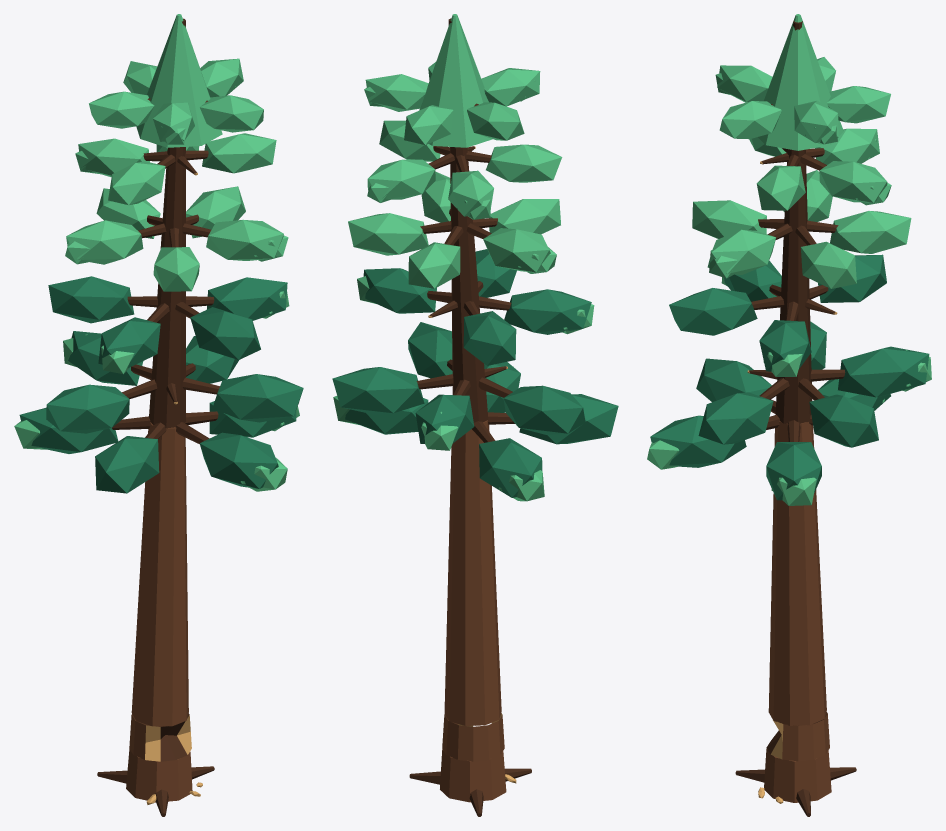
File: harvest_tree_damaged_b.glb
3 renders of one model, left to right at view 1: azimuth 30°, elevation 25°; view 2: azimuth 150°, elevation 25°; view 3: azimuth 270°, elevation 25°, orthographic.
Parts seen in each view (by area): view 1: Trunk_Above_Notch.001, Trunk_Upper.002, Leader_Needles.002, Needles_2_5.002, Needles_2_3.002, Needles_3_2.002, Needles_1_5.002, Needles_1_4.002, Needles_3_4.002, Needles_4_4.002, Needles_3_5.002, Trunk_Base.001 (+20 smaller); view 2: Trunk_Above_Notch.001, Leader_Needles.002, Trunk_Upper.002, Needles_2_1.002, Needles_2_3.002, Needles_3_3.002, Needles_4_5.002, Trunk_Base.001, Needles_1_3.002, Needles_3_5.002, Needles_5_2.002, Needles_3_2.002 (+20 smaller); view 3: Trunk_Above_Notch.001, Leader_Needles.002, Trunk_Upper.002, Needles_2_2.002, Needles_3_4.002, Needles_2_5.002, Needles_2_1.002, Needles_4_1.002, Trunk_Base.001, Needles_1_5.002, Needles_5_5.002, Needles_1_1.002 (+20 smaller).
Part boxes in pixels (x1=…): Trunk_Above_Notch.001: x1=131, y1=422, x2=188, y2=726; Trunk_Upper.002: x1=149, y1=18, x2=185, y2=428; Leader_Needles.002: x1=136, y1=14, x2=222, y2=147; Needles_2_5.002: x1=212, y1=374, x2=303, y2=422; Needles_2_3.002: x1=46, y1=384, x2=129, y2=433; Needles_3_2.002: x1=48, y1=276, x2=134, y2=323; Needles_1_5.002: x1=199, y1=432, x2=278, y2=488; Needles_1_4.002: x1=95, y1=436, x2=159, y2=493; Needles_3_4.002: x1=190, y1=307, x2=260, y2=359; Needles_4_4.002: x1=206, y1=219, x2=283, y2=260; Needles_3_5.002: x1=207, y1=277, x2=287, y2=320; Trunk_Base.001: x1=126, y1=749, x2=192, y2=802; Trunk_Above_Notch.001: x1=444, y1=420, x2=501, y2=725; Leader_Needles.002: x1=419, y1=14, x2=492, y2=147; Trunk_Upper.002: x1=448, y1=18, x2=488, y2=422; Needles_2_1.002: x1=332, y1=367, x2=424, y2=415; Needles_2_3.002: x1=503, y1=385, x2=585, y2=434; Needles_3_3.002: x1=504, y1=289, x2=591, y2=334; Needles_4_5.002: x1=348, y1=213, x2=428, y2=255; Trunk_Base.001: x1=440, y1=749, x2=506, y2=802; Needles_1_3.002: x1=479, y1=438, x2=542, y2=497; Needles_3_5.002: x1=363, y1=268, x2=436, y2=313; Needles_5_2.002: x1=486, y1=144, x2=562, y2=182; Needles_3_2.002: x1=463, y1=311, x2=516, y2=365; Trunk_Above_Notch.001: x1=768, y1=421, x2=826, y2=725; Leader_Needles.002: x1=758, y1=14, x2=843, y2=150; Trunk_Upper.002: x1=775, y1=21, x2=812, y2=423; Needles_2_2.002: x1=838, y1=346, x2=929, y2=397; Needles_3_4.002: x1=669, y1=288, x2=757, y2=335; Needles_2_5.002: x1=698, y1=392, x2=773, y2=444; Needles_2_1.002: x1=809, y1=394, x2=878, y2=447; Needles_4_1.002: x1=830, y1=211, x2=911, y2=253; Trunk_Base.001: x1=764, y1=748, x2=831, y2=802; Needles_1_5.002: x1=650, y1=415, x2=746, y2=467; Needles_5_5.002: x1=819, y1=161, x2=887, y2=202; Needles_1_1.002: x1=766, y1=442, x2=821, y2=500.
Size of the model in its own units: 5.24 by 15.47 by 5.1.
